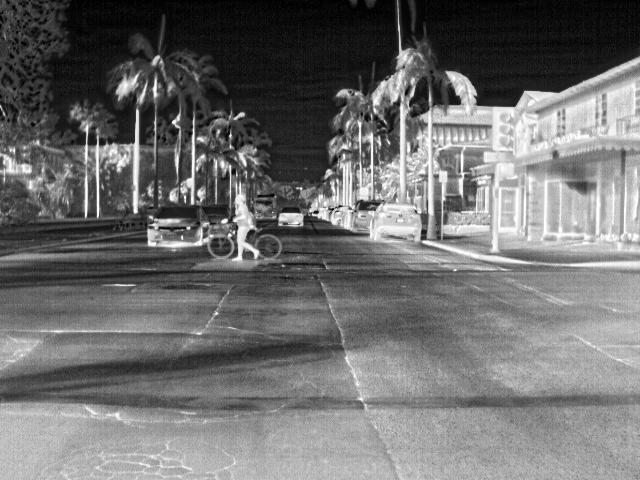car: (146, 204, 206, 246), (369, 200, 421, 243), (348, 198, 376, 232), (201, 200, 231, 230), (278, 207, 303, 229), (340, 207, 354, 227), (330, 206, 345, 224), (321, 207, 333, 220), (312, 209, 323, 218)
person: (233, 192, 255, 262)
